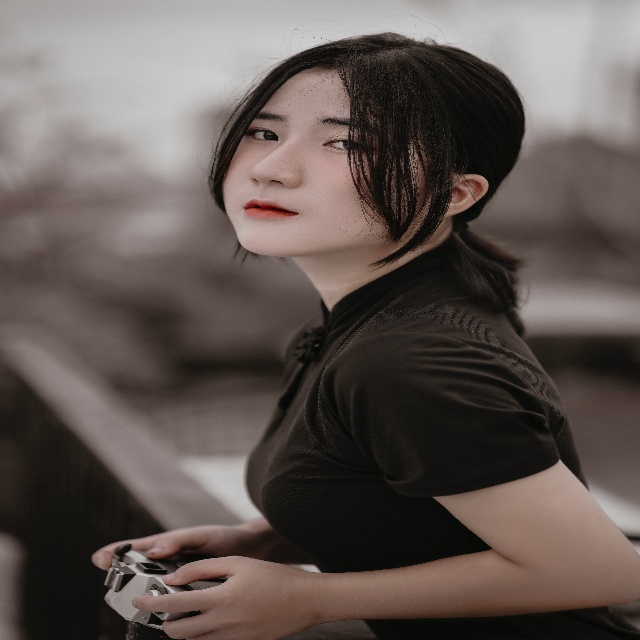Sin_guantes: (130, 550, 312, 640), (91, 522, 258, 570)
